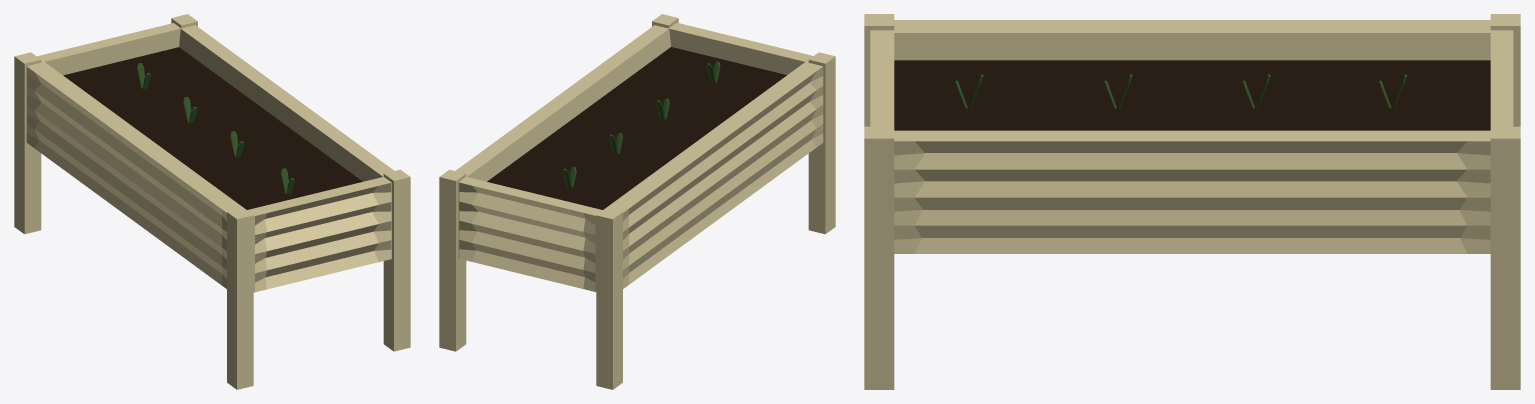
File: FlowerBed.fbx
3 renders of one model, left to right at view 1: azimuth 30°, elevation 25°; view 2: azimuth 150°, elevation 25°; view 3: azimuth 270°, elevation 25°, orthographic. The views are drawn at different scales.
Visible parts, largest first — view 1: Cube.001, Cube, Cube.005, Cube.002, Cube.004; view 2: Cube.001, Cube, Cube.004, Cube.003, Cube.005; view 3: Cube.001, Cube, Cube.002, Cube.003, Cube.004, Cube.005.
Part boxes in pixels (x1=…): Cube.001: x1=26, y1=23, x2=394, y2=292; Cube: x1=63, y1=47, x2=362, y2=209; Cube.005: x1=227, y1=208, x2=253, y2=389; Cube.002: x1=383, y1=169, x2=410, y2=351; Cube.004: x1=14, y1=52, x2=41, y2=234; Cube.001: x1=455, y1=22, x2=823, y2=291; Cube: x1=487, y1=47, x2=786, y2=209; Cube.004: x1=596, y1=208, x2=622, y2=389; Cube.003: x1=439, y1=169, x2=466, y2=351; Cube.005: x1=808, y1=52, x2=835, y2=234; Cube.001: x1=870, y1=20, x2=1513, y2=253; Cube: x1=894, y1=60, x2=1490, y2=130; Cube.002: x1=864, y1=126, x2=894, y2=389; Cube.003: x1=1490, y1=126, x2=1520, y2=389; Cube.004: x1=1490, y1=14, x2=1520, y2=126; Cube.005: x1=864, y1=14, x2=894, y2=126.
Bounding box in the file's own units: 417 × 394 × 928.
